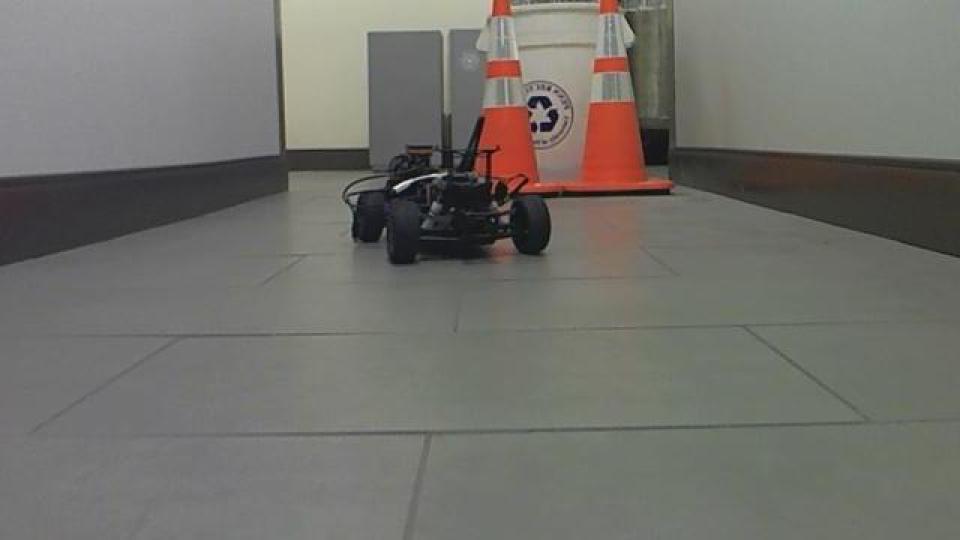car: (339, 117, 553, 267)
